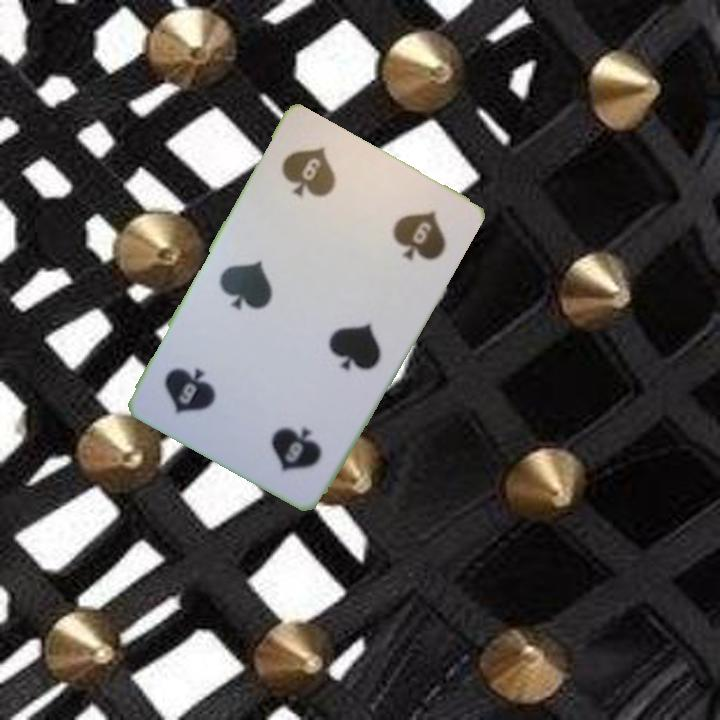s_6.png: (257, 122, 384, 244), (224, 374, 351, 495)
